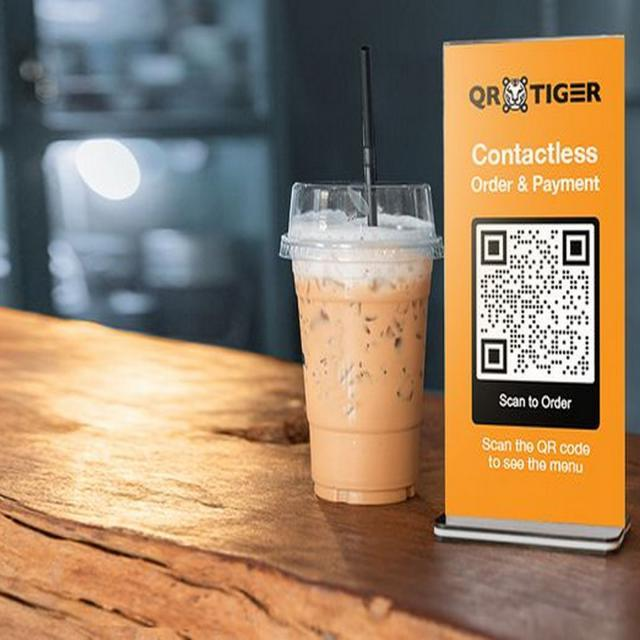qr_code: (480, 230, 590, 376)
